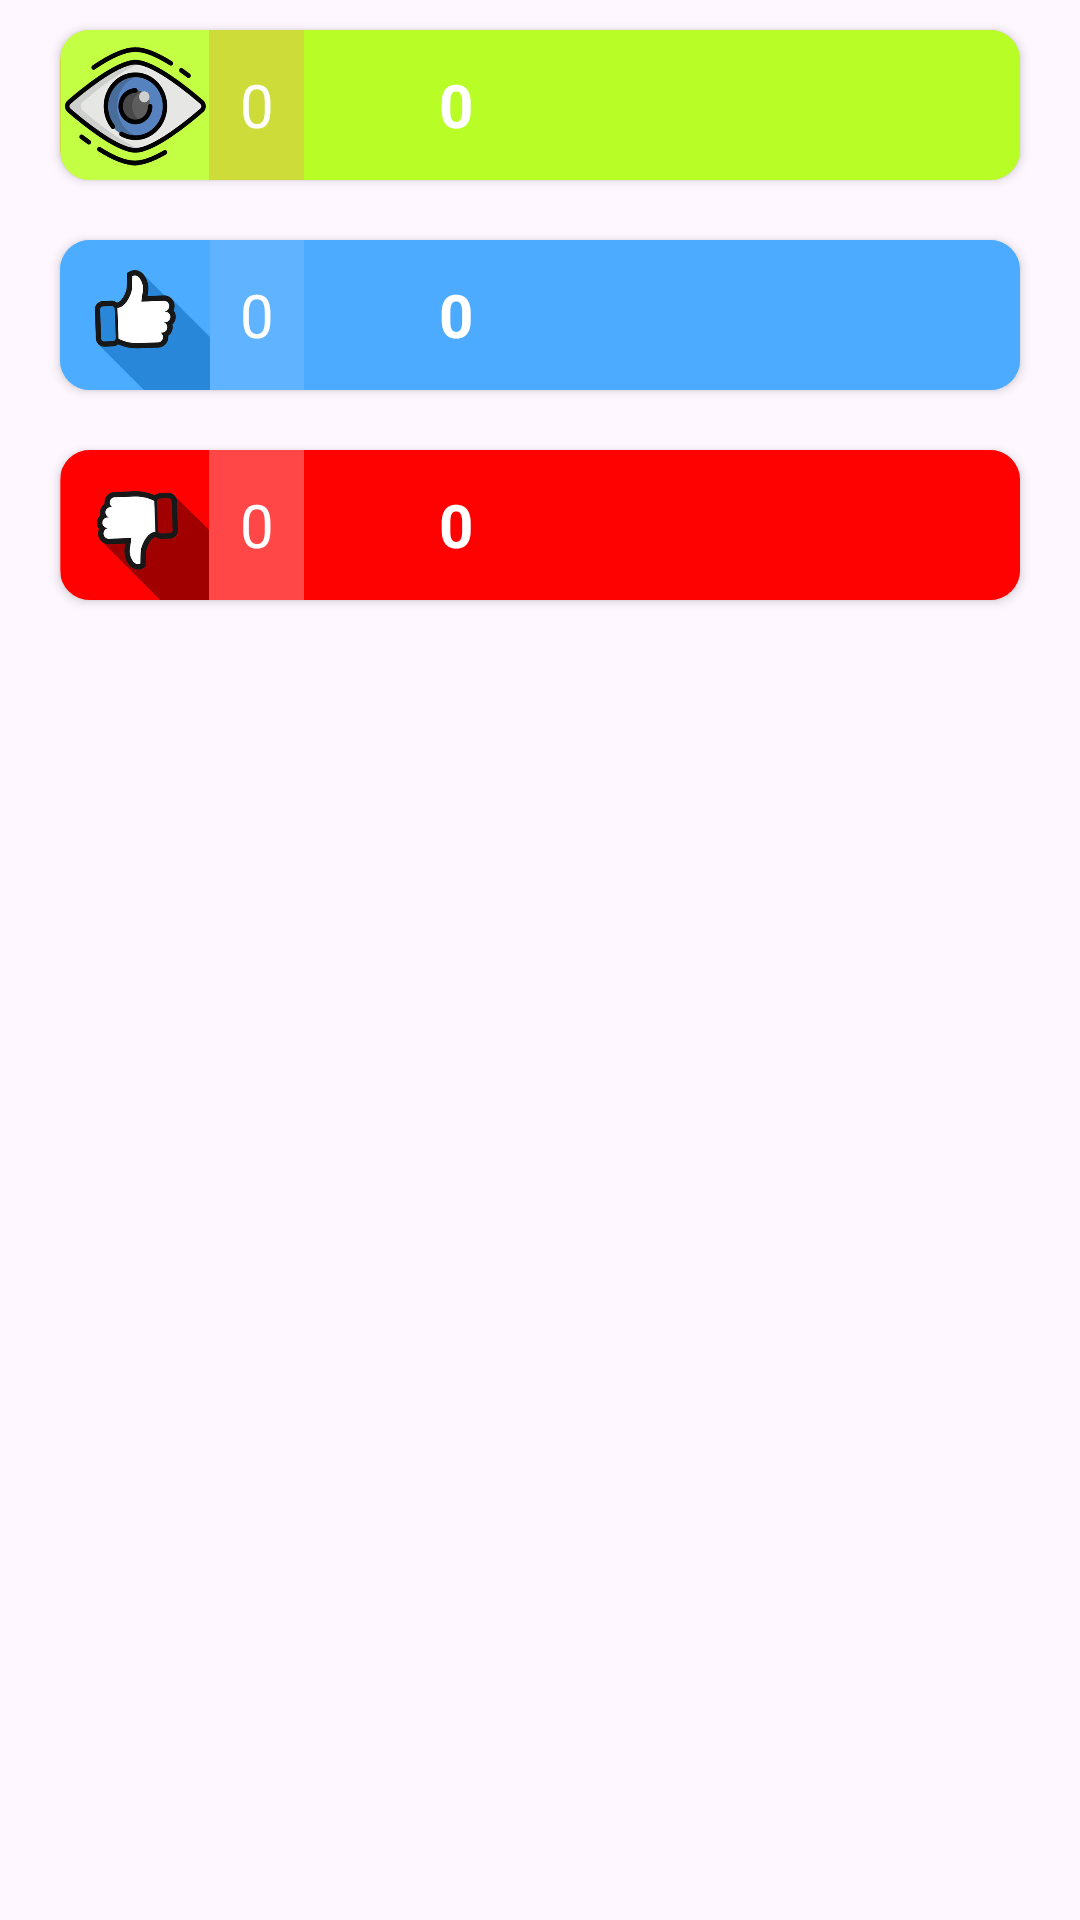

Screen size 1080px x 1920px. Icon name, then its center in pixels as (x,y):
dislike: (135,525)
like: (135,315)
view: (135,105)
